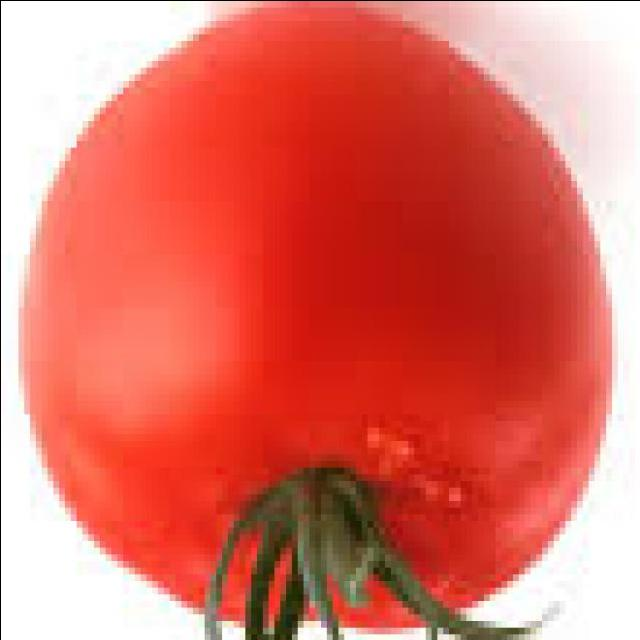Healthy: (0, 0, 590, 634)
